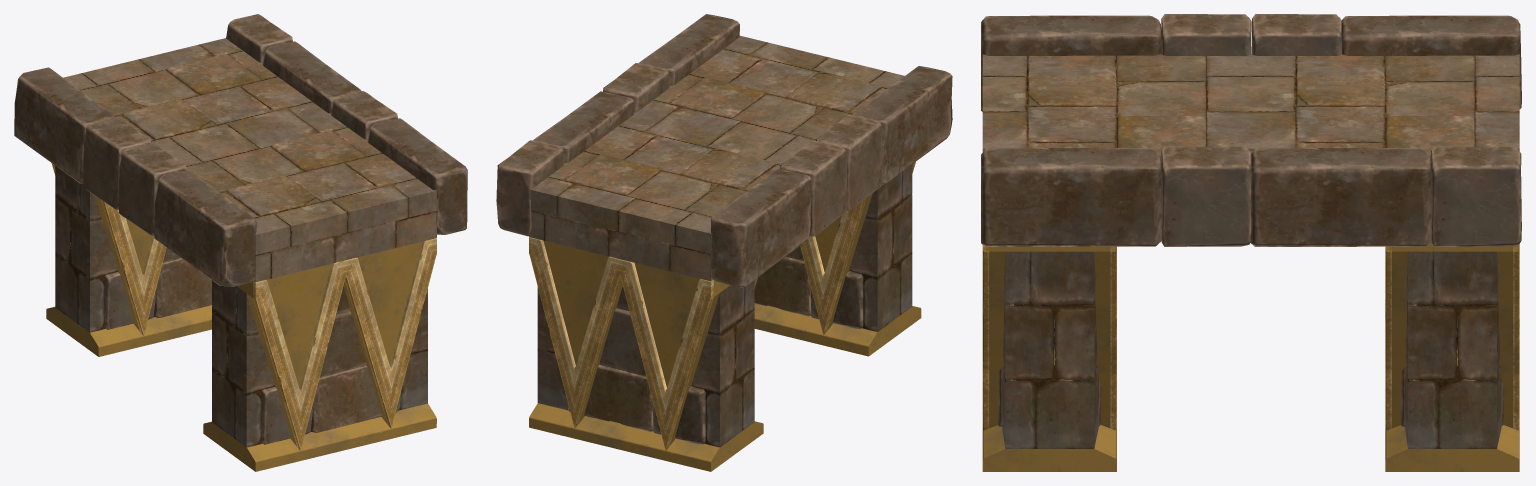
The picture shows the model from 3 angles, left to right: view 1: azimuth 30°, elevation 25°; view 2: azimuth 150°, elevation 25°; view 3: azimuth 270°, elevation 25°; orthographic projection. The views are drawn at different scales.
Parts seen in each view (by area): view 1: SM_DK_Bridge_8m_01v1_LOD0; view 2: SM_DK_Bridge_8m_01v1_LOD0; view 3: SM_DK_Bridge_8m_01v1_LOD0.
Boxes of the visible parts, x1,y1,x2,y2 form: SM_DK_Bridge_8m_01v1_LOD0: (14, 14, 467, 471); SM_DK_Bridge_8m_01v1_LOD0: (496, 14, 952, 471); SM_DK_Bridge_8m_01v1_LOD0: (981, 14, 1521, 471).
Bounding box in the file's own units: 5.47 × 5.36 × 8.06.
6 materials, 6 textured.
